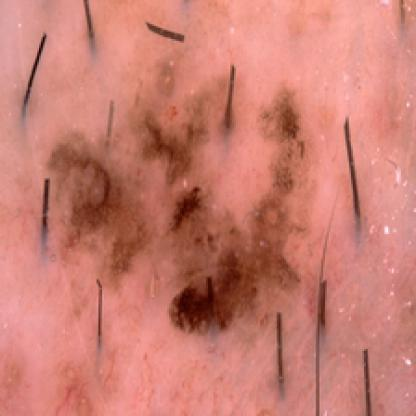malignant: (43, 91, 310, 318)
